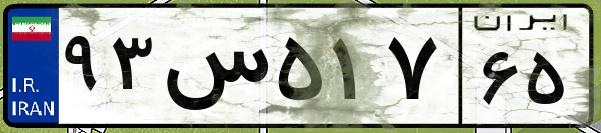1: (330, 28, 385, 110)
3: (110, 28, 158, 98)
5: (270, 28, 330, 110), (525, 38, 570, 115)
6: (475, 38, 525, 113)
7: (385, 28, 445, 110)
9: (57, 26, 110, 100)
س: (158, 20, 270, 120)
